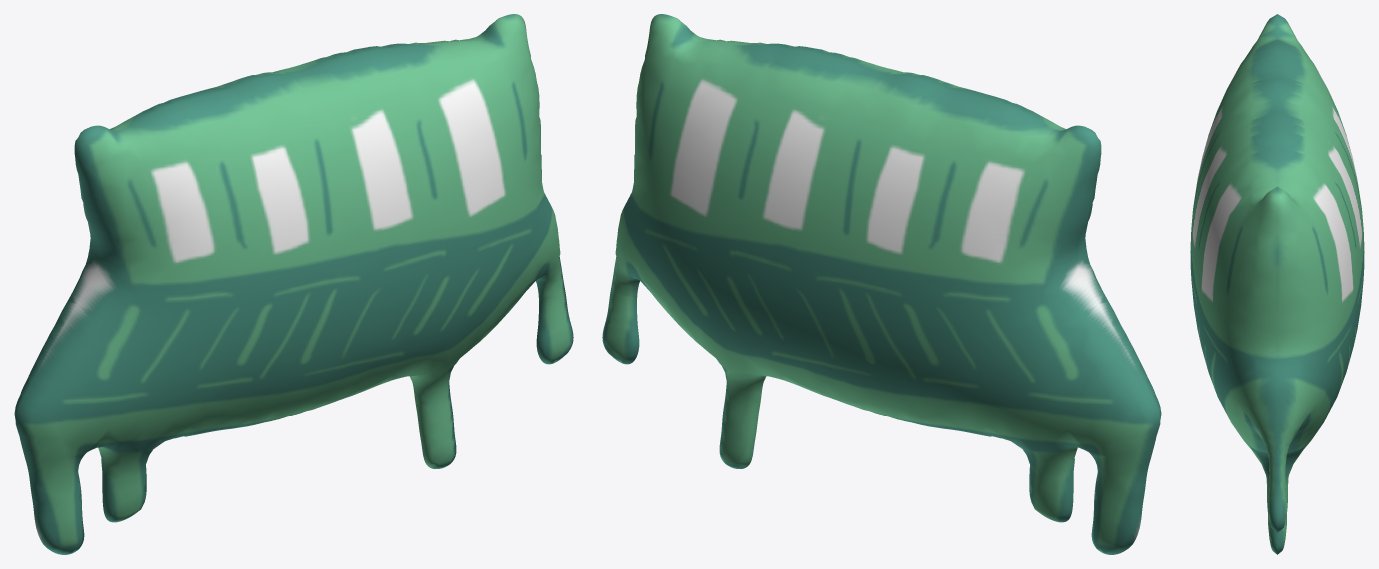
The model's file is greenBench.glb.
The picture shows the model from 3 angles, left to right: view 1: azimuth 30°, elevation 25°; view 2: azimuth 150°, elevation 25°; view 3: azimuth 270°, elevation 25°; orthographic projection. The views are drawn at different scales.
Visible parts, largest first — view 1: Mesh_0.015; view 2: Mesh_0.015; view 3: Mesh_0.015.
Part boxes in pixels (<box>): Mesh_0.015: <box>14,14,573,554</box>; Mesh_0.015: <box>602,14,1161,554</box>; Mesh_0.015: <box>1190,14,1364,554</box>.
Bounding box in the file's own units: 276 × 207 × 82.83.
Materials: 1 (1 with a texture image).
